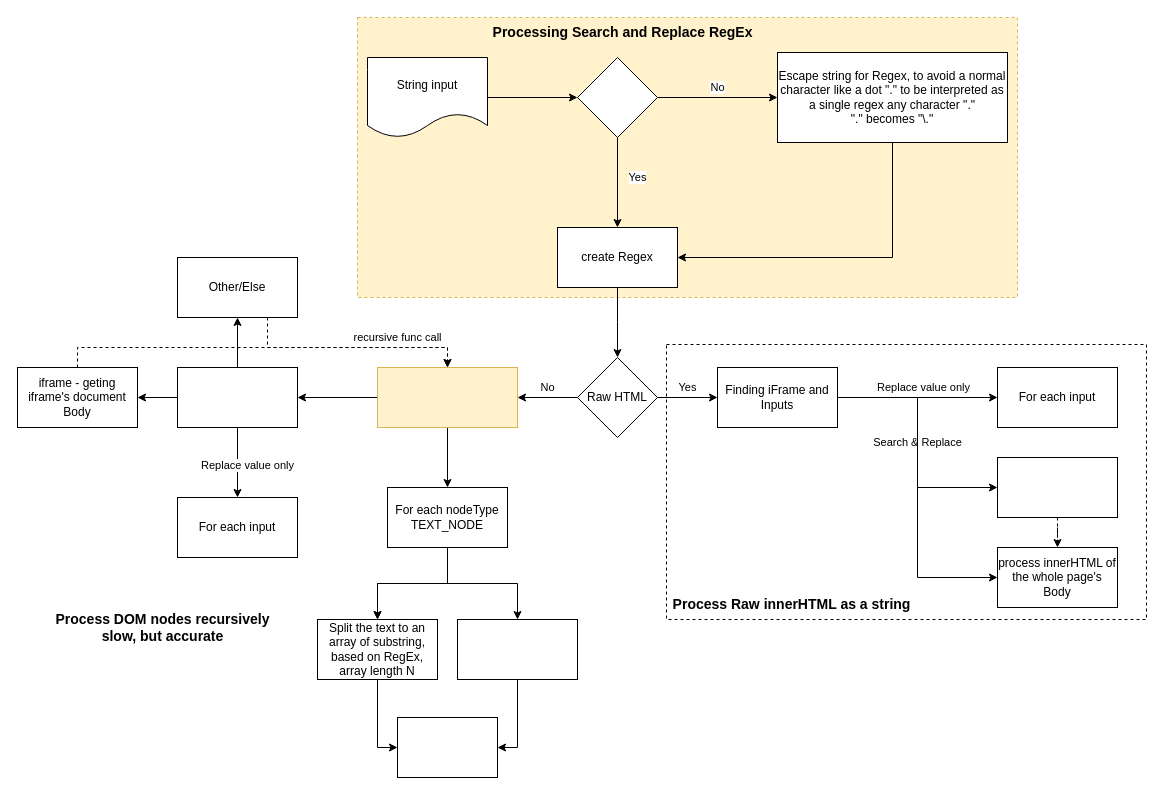
Image size: 1164x795. Some labels were removed from this diagram. Each missing label, with the centre of its shape:
Finding matches of RegEx as an array of length (N - 1): pixel 517 649
For each iFrame: pixel 1057 487
For each nodeType ELEMENT_NODE: pixel 237 397
Join N parts of substrings with (N-1) replace values (matches): pixel 447 747
Start recursively checking the element's children Nodes, start with Body: pixel 447 397
use RegEx: pixel 617 97
